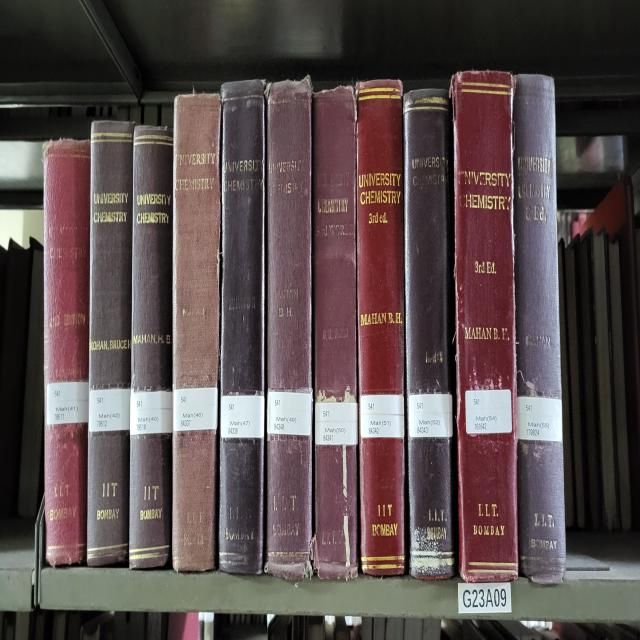Book: (450, 70, 519, 582), (514, 76, 566, 584), (404, 89, 456, 579), (356, 81, 405, 576), (265, 78, 312, 579), (172, 95, 221, 571), (219, 81, 265, 574), (312, 87, 358, 579), (86, 122, 134, 565), (129, 124, 174, 568), (44, 141, 90, 565)
Label: (172, 387, 218, 433), (268, 390, 312, 436), (408, 392, 452, 438), (518, 395, 562, 441), (465, 390, 512, 433), (220, 395, 265, 438), (130, 390, 172, 436), (46, 381, 89, 425), (360, 395, 404, 438), (89, 387, 130, 433), (315, 403, 358, 446)
